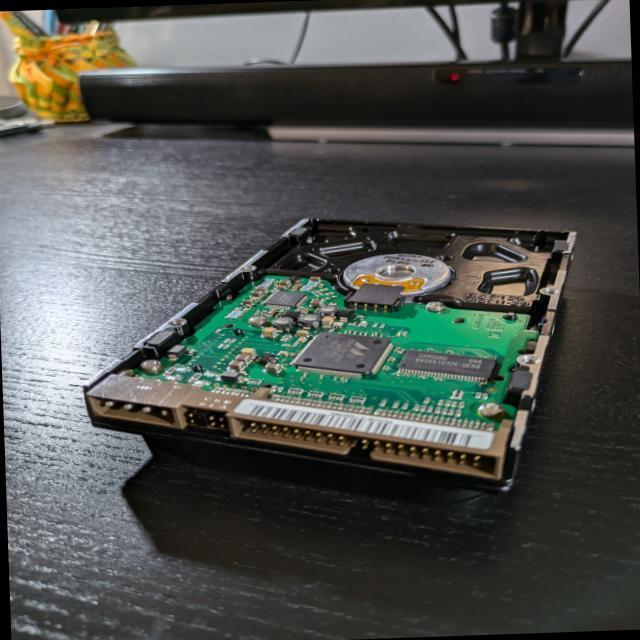DISK: (76, 206, 589, 520)
